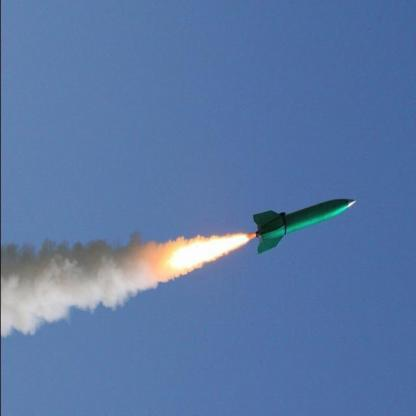MIL_TBM: (254, 190, 362, 256)
